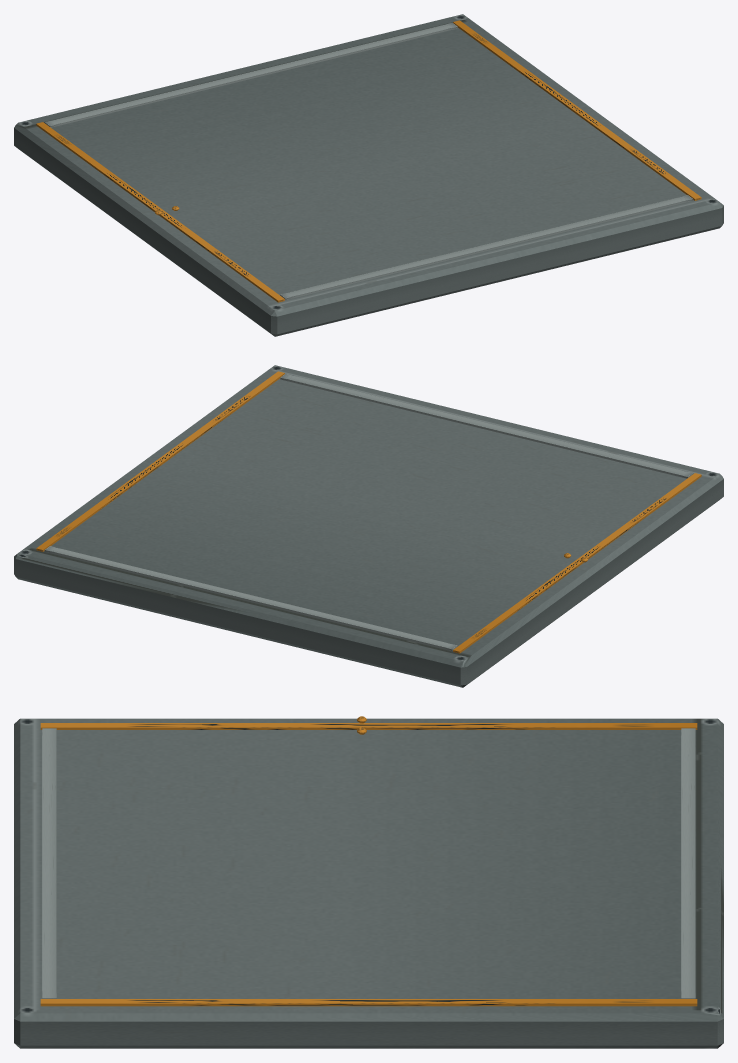
File: floor_4m_LOD0.obj
The picture shows the model from 3 angles, top to bottom: view 1: azimuth 30°, elevation 25°; view 2: azimuth 150°, elevation 25°; view 3: azimuth 270°, elevation 25°; orthographic projection. The views are drawn at different scales.
Visible parts, largest first — view 1: L02_floor_4m_LOD0; view 2: L02_floor_4m_LOD0; view 3: L02_floor_4m_LOD0.
Part boxes in pixels (x1,y1,x2,y2): L02_floor_4m_LOD0: [14, 14, 723, 336]; L02_floor_4m_LOD0: [14, 365, 723, 687]; L02_floor_4m_LOD0: [14, 716, 723, 1048].
Size of the model in its own units: 4 by 0.266 by 4.
1 material, 1 textured.
